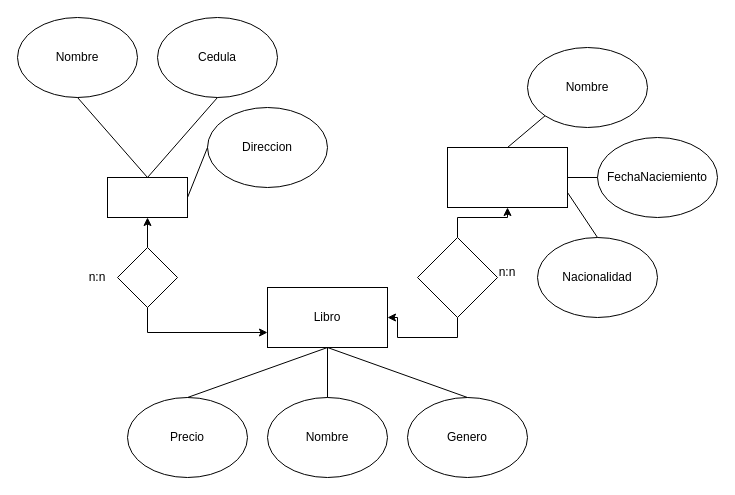
This 735x495 diagram has some shape labels left out. The shapes that lost their labels are listed below. From the top down, each one's centre as x and y in pixels, then its label:
the point at 147,197: Cliente
the point at 507,177: Autor
the point at 147,277: Compra
the point at 457,277: Tiene
